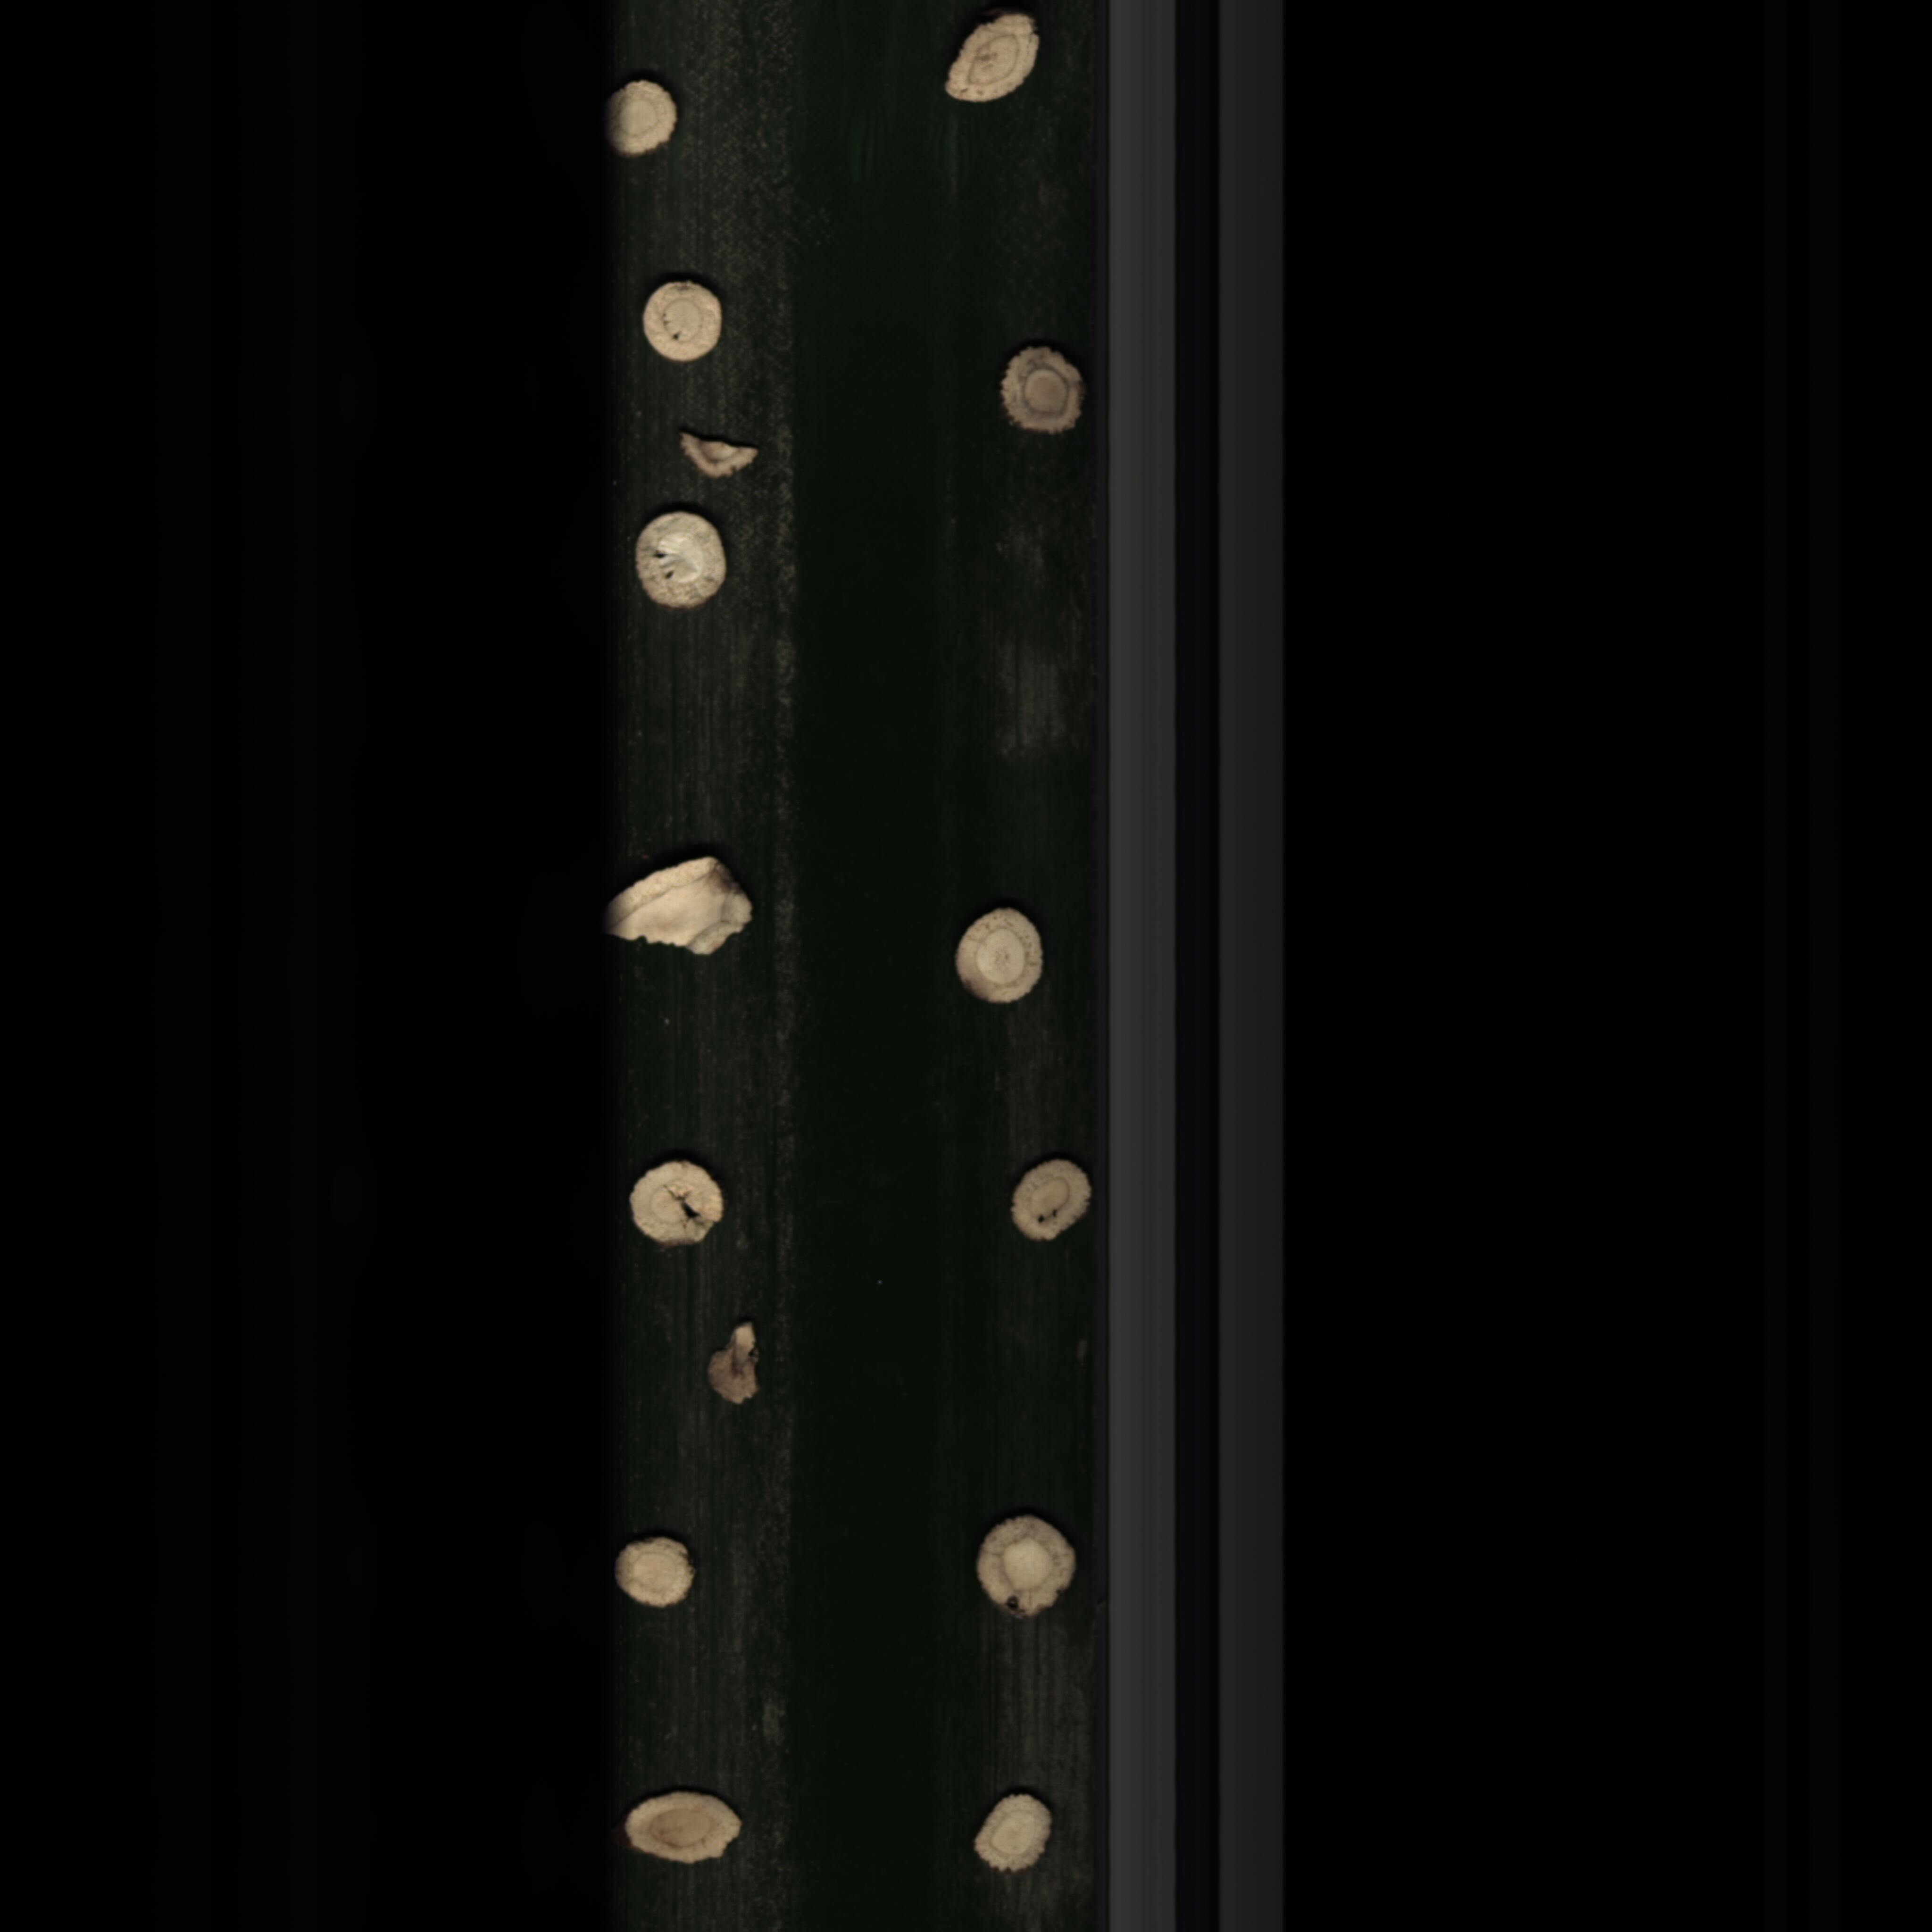bark: (704, 1315, 784, 1433)
debris: (593, 839, 764, 987), (671, 418, 771, 492)
distortion: (614, 1782, 752, 1879)
hole: (625, 1150, 754, 1254), (991, 1148, 1102, 1260)
moldy: (991, 338, 1095, 442)
